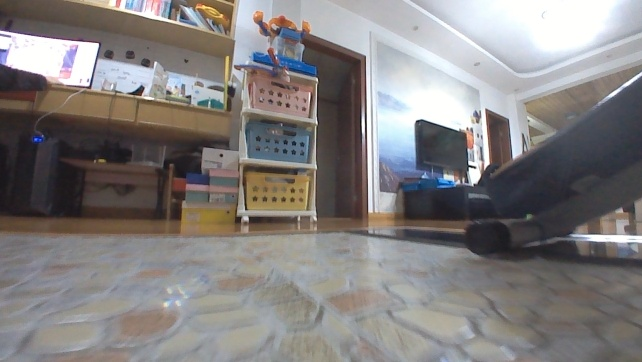TV_stand1: (401, 183, 494, 222)
door_anno: (333, 65, 367, 223)
wire: (30, 88, 88, 137), (80, 183, 135, 196)
